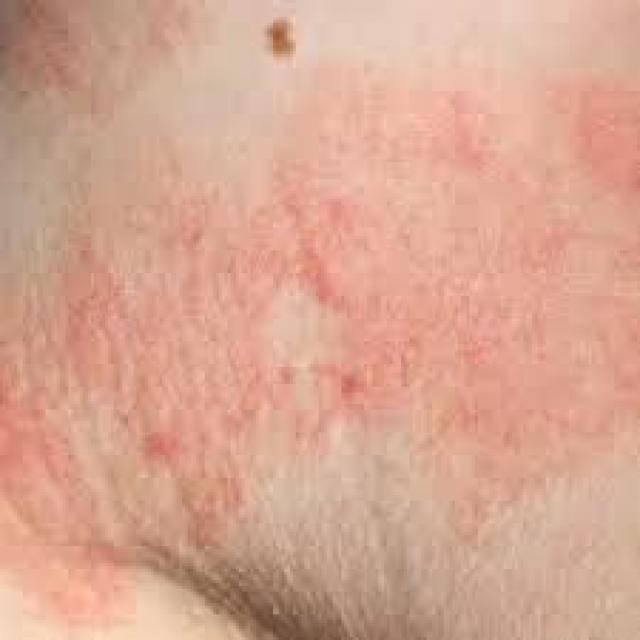Eczema: (85, 300, 469, 490)
